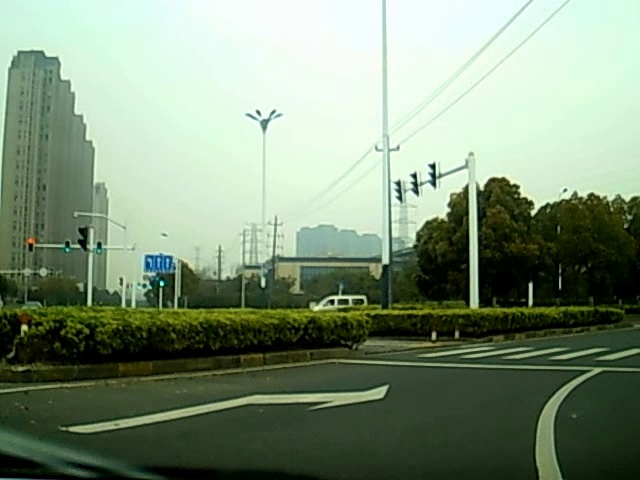Traffic_Light_go: (96, 241, 104, 256), (157, 276, 167, 288), (63, 241, 71, 253)
Traffic_Light_stop: (26, 236, 35, 255)
